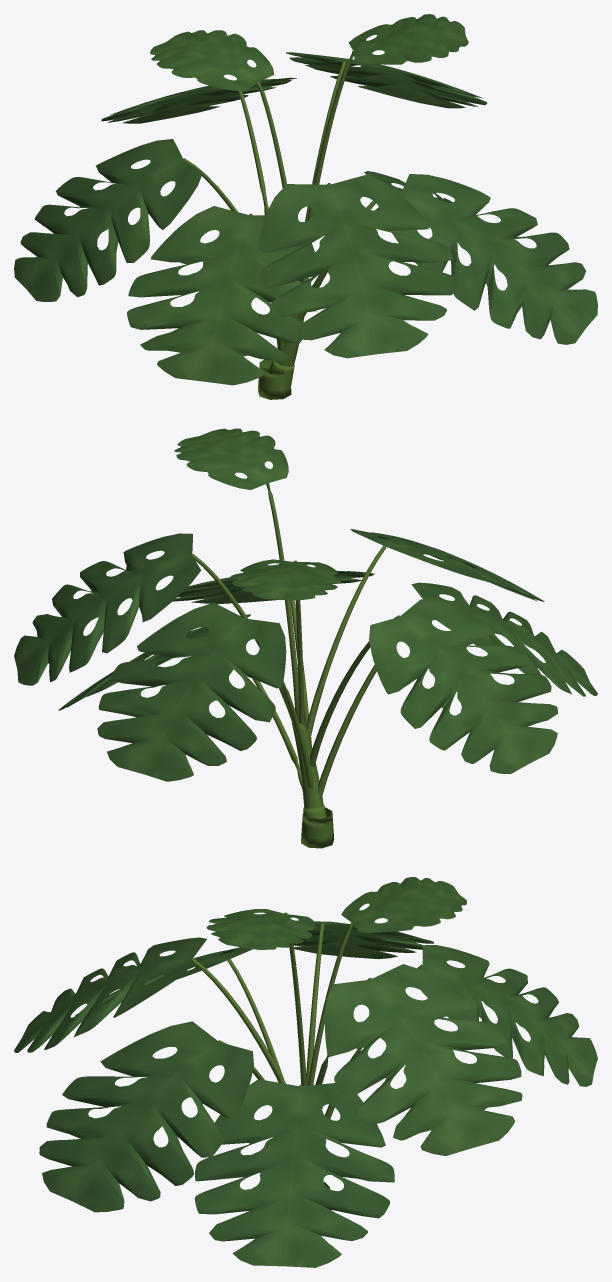
Rendered from splitleaf.glb.
3 views of the same model, one above another, from view 1: azimuth 30°, elevation 25°; view 2: azimuth 150°, elevation 25°; view 3: azimuth 270°, elevation 25° (orthographic).
Visible parts, largest first — view 1: Foliage, Stems; view 2: Foliage, Stems; view 3: Foliage, Stems.
Boxes of the visible parts, left/top/right/bottom form: Foliage: left=14, top=14, right=597, bottom=385; Stems: left=183, top=51, right=378, bottom=399; Foliage: left=14, top=428, right=597, bottom=781; Stems: left=192, top=483, right=399, bottom=848; Foliage: left=14, top=877, right=597, bottom=1267; Stems: left=191, top=912, right=422, bottom=1209.
Size of the model in its own units: 1.54 by 1.05 by 1.6.
2 materials, 1 textured.
